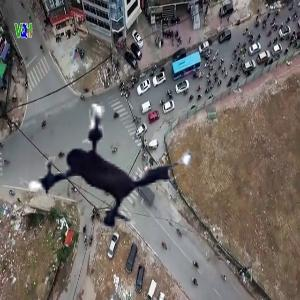drone: (8, 61, 205, 258)
